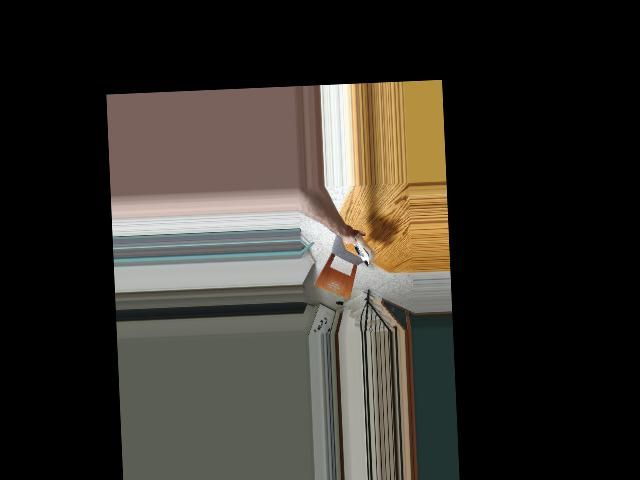cheese: (350, 232, 376, 267)
